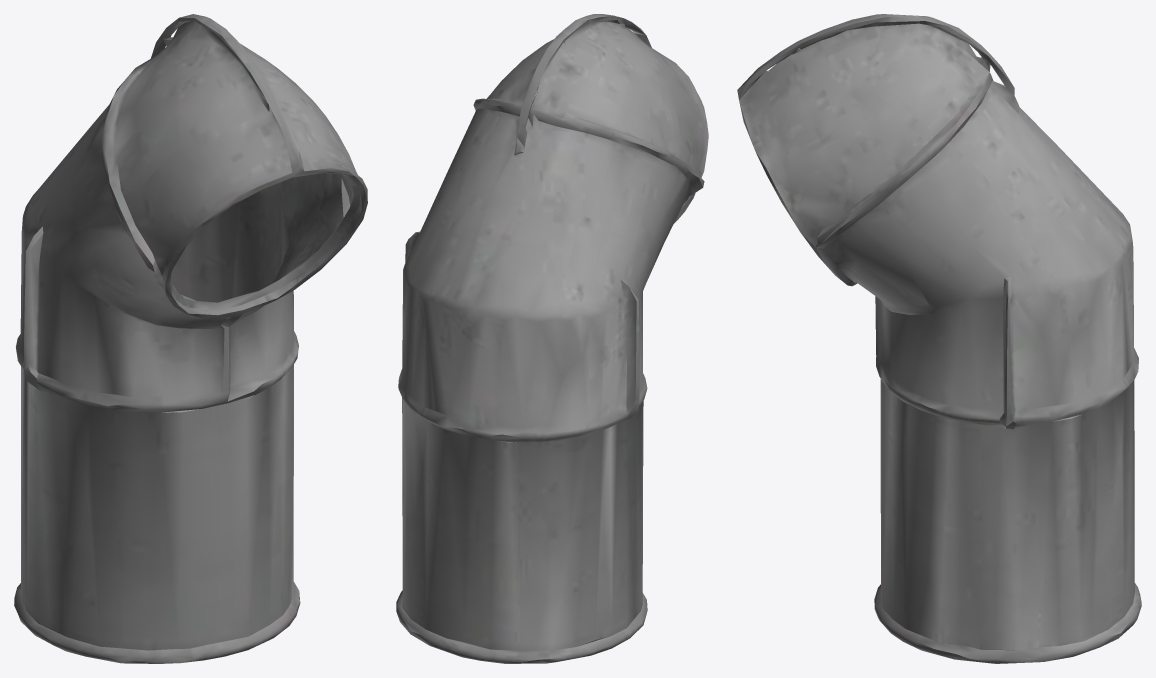
File: duct.glb
3 views of the same model, side by side, from view 1: azimuth 30°, elevation 25°; view 2: azimuth 150°, elevation 25°; view 3: azimuth 270°, elevation 25° (orthographic). The views are drawn at different scales.
Parts seen in each view (by area): view 1: duct; view 2: duct; view 3: duct.
Part boxes in pixels (<box>): duct: <box>14,14,367,663</box>; duct: <box>396,14,708,663</box>; duct: <box>737,14,1141,663</box>.
Bounding box in the file's own units: 0.7121 × 1.6 × 0.9864.
Materials: 1 (1 with a texture image).
